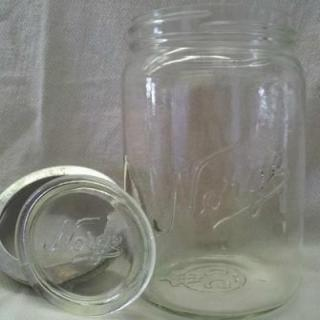GLASS: (119, 5, 318, 320)
